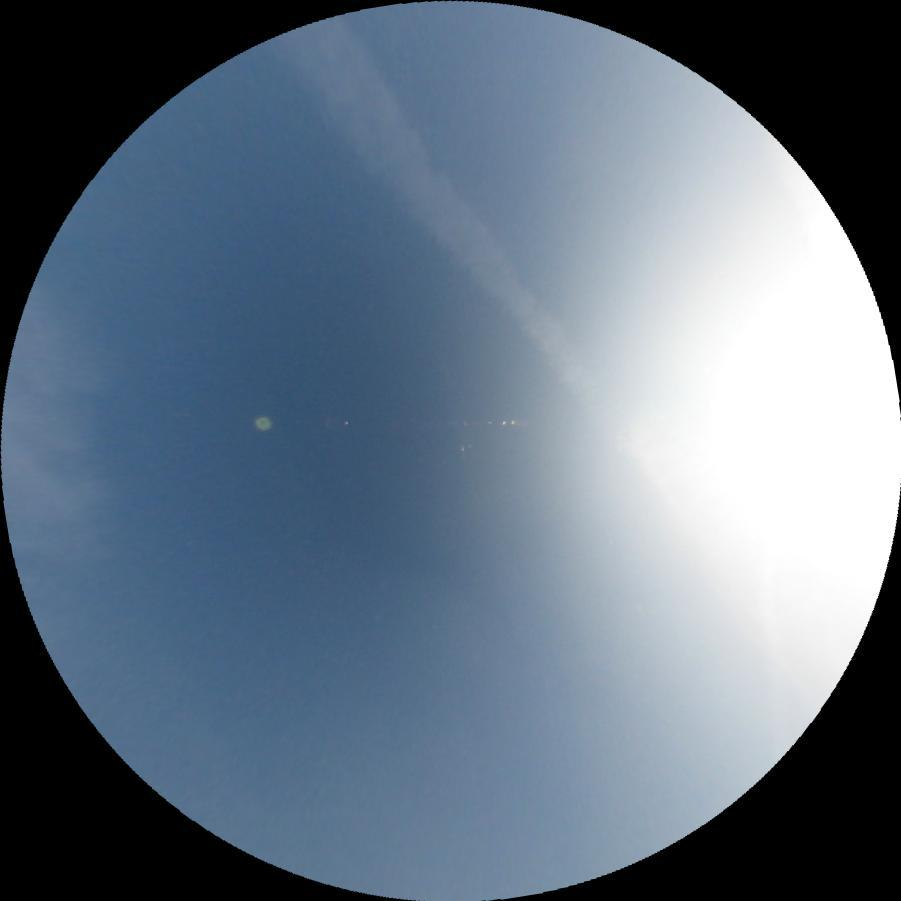contrail veryold: (270, 1, 670, 507)
